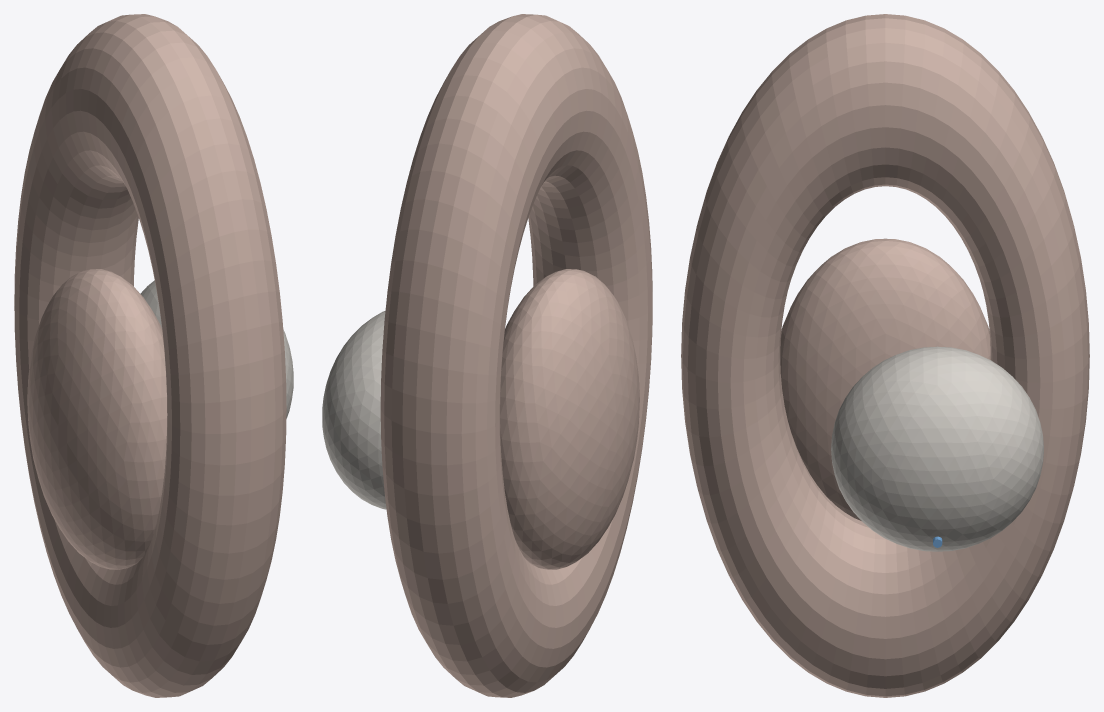
The model's file is aid_in_ear_a.glb.
The picture shows the model from 3 angles, left to right: view 1: azimuth 30°, elevation 25°; view 2: azimuth 150°, elevation 25°; view 3: azimuth 270°, elevation 25°; orthographic projection.
Parts seen in each view (by area): view 1: ear, shell; view 2: ear, shell; view 3: ear, shell.
Part boxes in pixels (bbox=[...]): ear: bbox=[14, 14, 286, 697]; shell: bbox=[140, 280, 293, 418]; ear: bbox=[380, 14, 652, 697]; shell: bbox=[322, 310, 386, 509]; ear: bbox=[681, 14, 1089, 697]; shell: bbox=[831, 346, 1043, 551].
Size of the model in its own units: 24.9 by 62.95 by 34.52.
